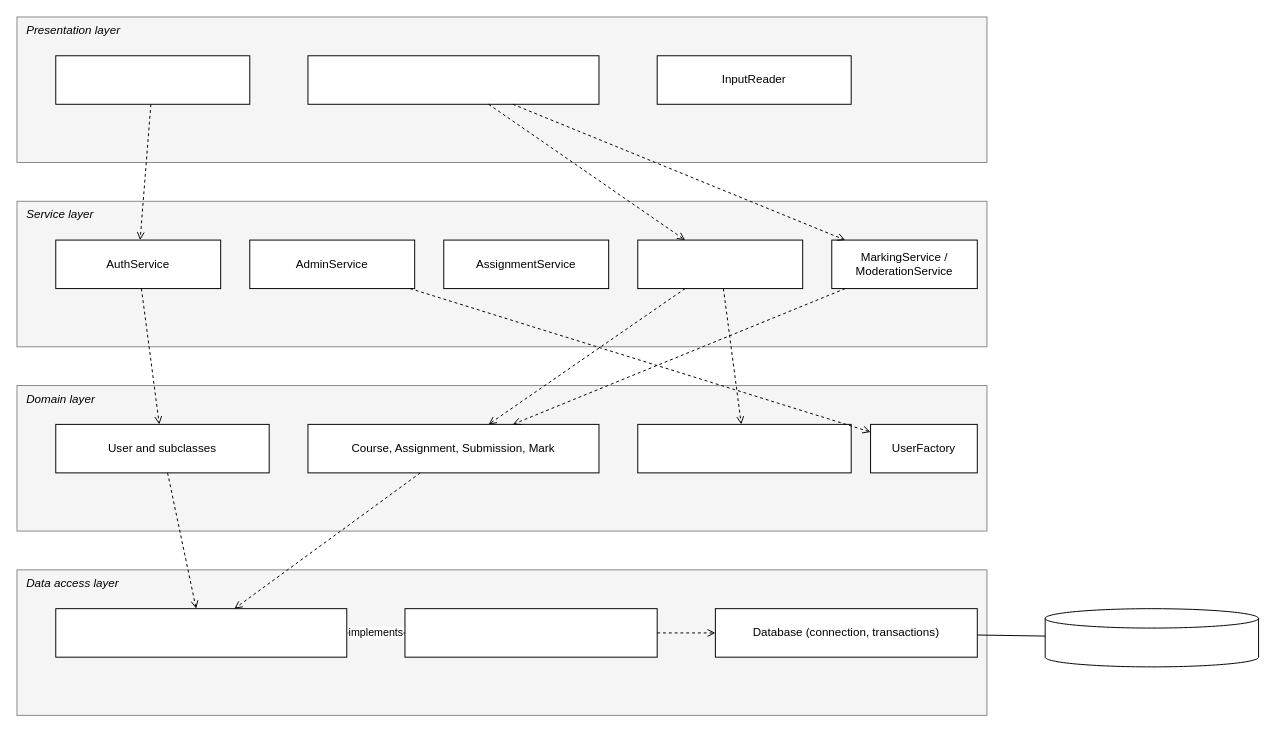
Image size: 1276x732. Some labels were removed from this diagram. The shapes that lost their labels are listed below. From the top down, each one's centre as x and y in pixels, then its label:
At (x=152, y=79): "ConsoleMenu".
At (x=453, y=79): "RoleMenus (Admin, Lecturer, HoD, Student)".
At (x=720, y=264): "SubmissionService".
At (x=744, y=448): "PenaltyStrategy".
At (x=201, y=632): "Repository interfaces".
At (x=530, y=632): "Sqlite repositories".
At (x=1151, y=637): "SQLite file (lms.db)".
